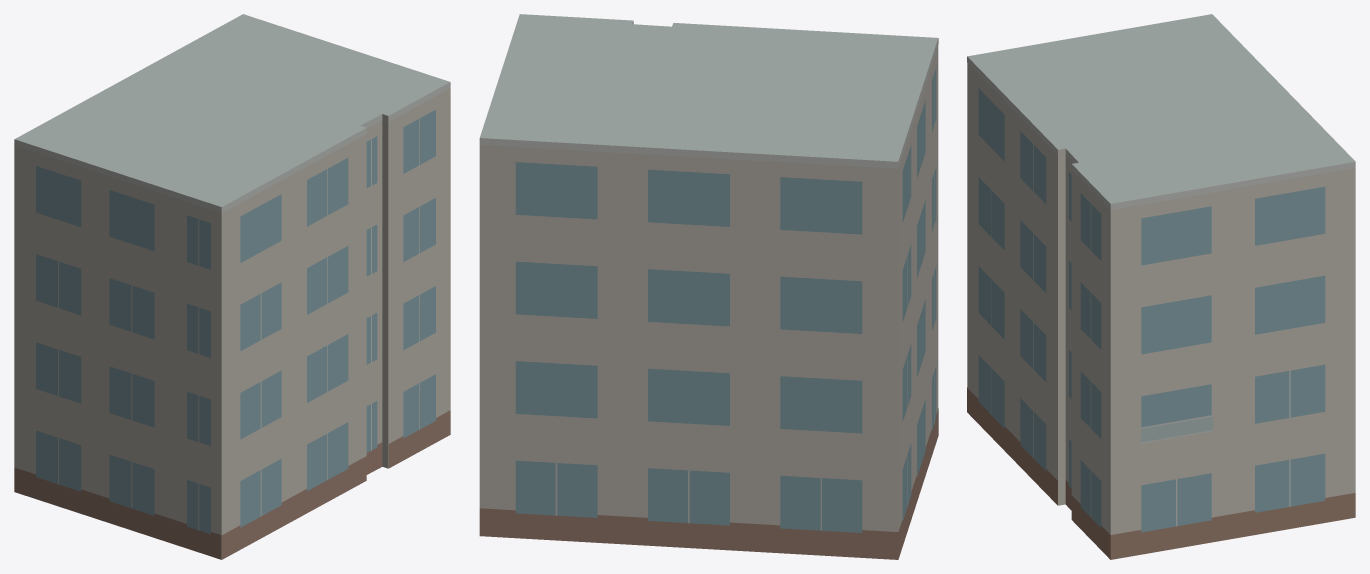
Rendered from survey-upis-33018360.glb.
3 renders of one model, left to right at view 1: azimuth 30°, elevation 25°; view 2: azimuth 150°, elevation 25°; view 3: azimuth 270°, elevation 25°, orthographic. The views are drawn at different scales.
Visible parts, largest first — view 1: survey-upis-33018360.tmp; view 2: survey-upis-33018360.tmp; view 3: survey-upis-33018360.tmp.
Boxes of the visible parts, x1=… form: survey-upis-33018360.tmp: x1=14, y1=14, x2=450, y2=559; survey-upis-33018360.tmp: x1=479, y1=14, x2=938, y2=559; survey-upis-33018360.tmp: x1=967, y1=14, x2=1355, y2=559.
Bounding box in the file's own units: 16.26 × 14.2 × 14.06.
